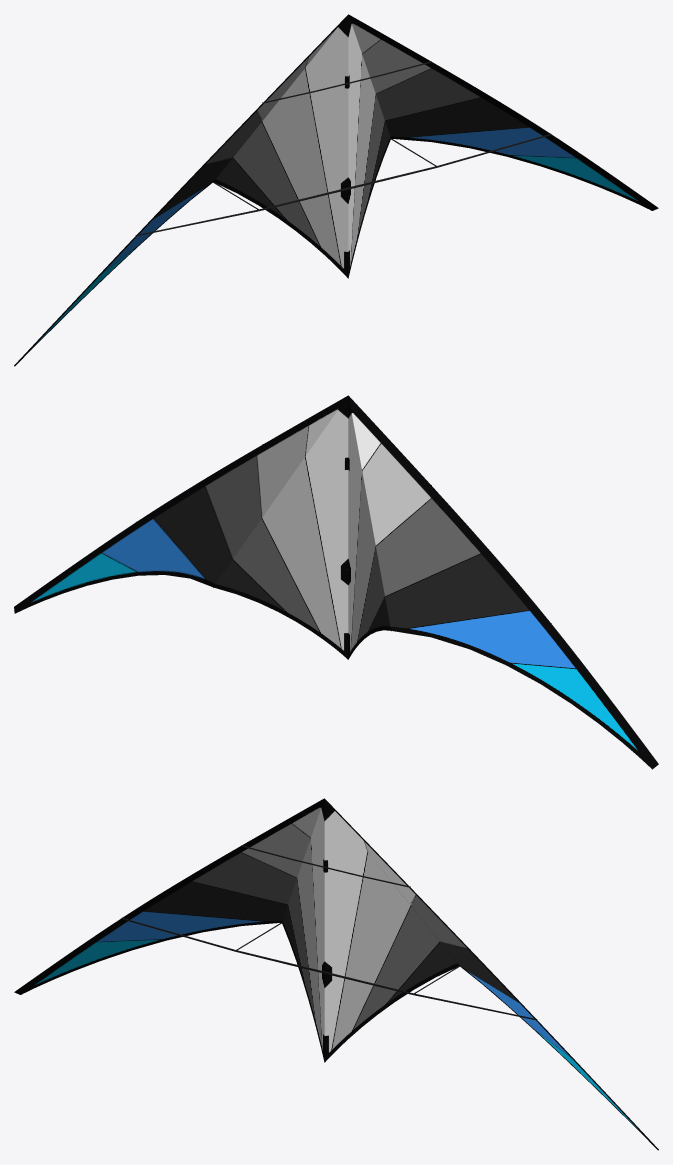
Rendered from Return-2017.obj.
3 views of the same model, one above another, from view 1: azimuth 30°, elevation 25°; view 2: azimuth 150°, elevation 25°; view 3: azimuth 330°, elevation 25° (orthographic).
Size of the model in its own units: 2180 by 922 by 272.
3 materials, 2 textured.
